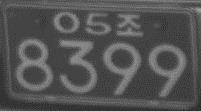0: (52, 9, 81, 34)
3: (58, 38, 98, 95)
5: (85, 11, 111, 35)
8: (14, 37, 53, 91)
9: (146, 42, 187, 97), (102, 41, 142, 96)
조: (115, 13, 144, 37)
